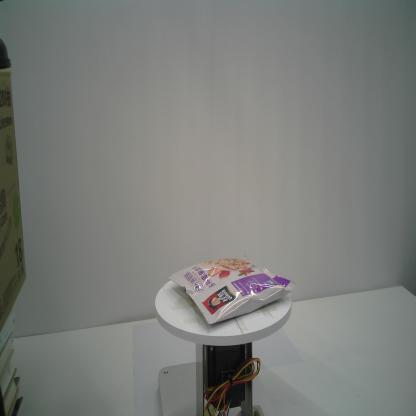Instant Drink: (166, 254, 297, 326)
